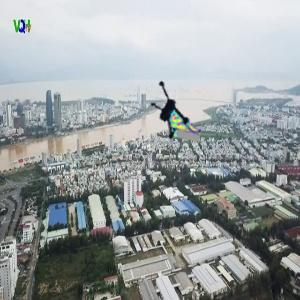drone: (137, 74, 206, 143)
